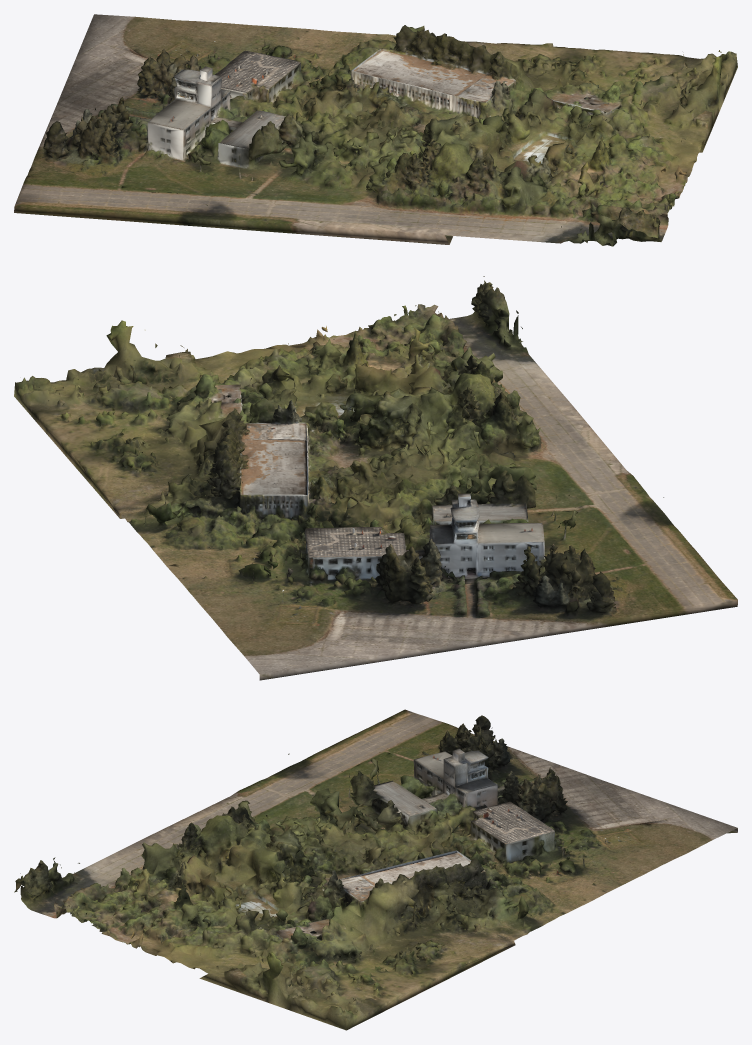
File: torony_georef_50k.fbx
3 renders of one model, top to bottom at view 1: azimuth 30°, elevation 25°; view 2: azimuth 150°, elevation 25°; view 3: azimuth 270°, elevation 25°, orthographic. The views are drawn at different scales.
Visible parts, largest first — view 1: torony_georef_50k; view 2: torony_georef_50k; view 3: torony_georef_50k.
Part boxes in pixels (box(x1,y1,x2,y2)): torony_georef_50k: box(14, 14, 737, 246); torony_georef_50k: box(14, 276, 737, 680); torony_georef_50k: box(14, 709, 737, 1030).
Bounding box in the file's own units: 238 × 22.67 × 231.
1 material, 1 textured.
